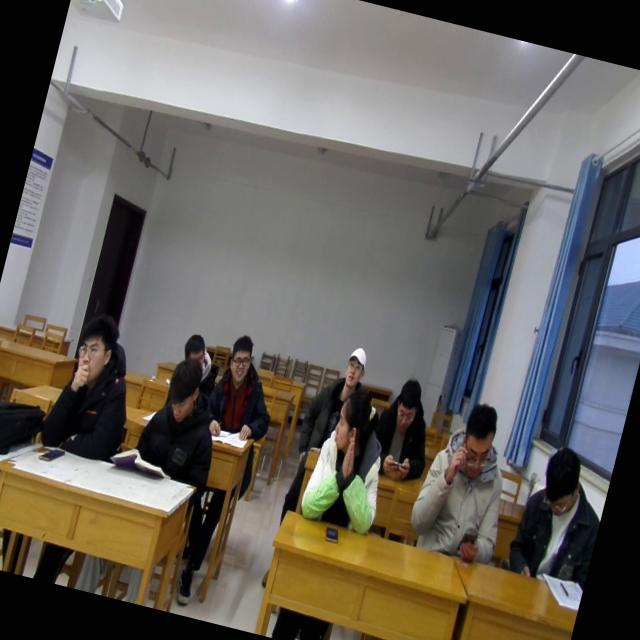down: (531, 440, 590, 522), (450, 400, 506, 486), (156, 348, 208, 428), (384, 369, 428, 438), (177, 320, 214, 370)
lookup: (65, 304, 127, 394), (219, 328, 260, 390), (337, 339, 371, 391)
sit: (400, 392, 532, 570), (502, 436, 616, 592), (33, 311, 145, 468), (293, 386, 403, 540), (126, 351, 234, 488), (200, 330, 292, 450), (298, 337, 376, 454), (366, 374, 446, 485), (167, 322, 236, 402)
